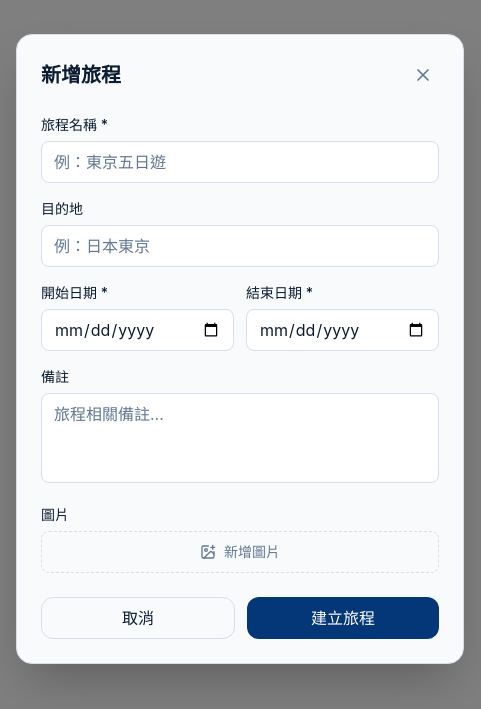
it: AddTripModal › shows an error and does not create a trip when the title is blank
Type "2026-01-01" into the date field below "開始日期 *". click: point(138, 330)
box: [41,309,234,351]
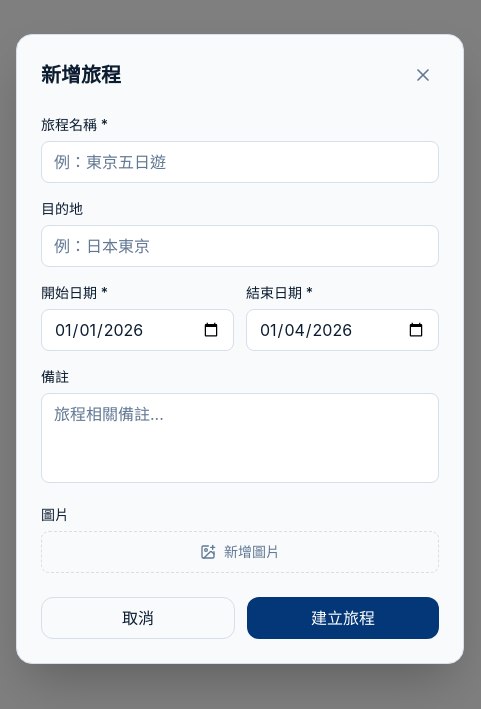
Submit the form
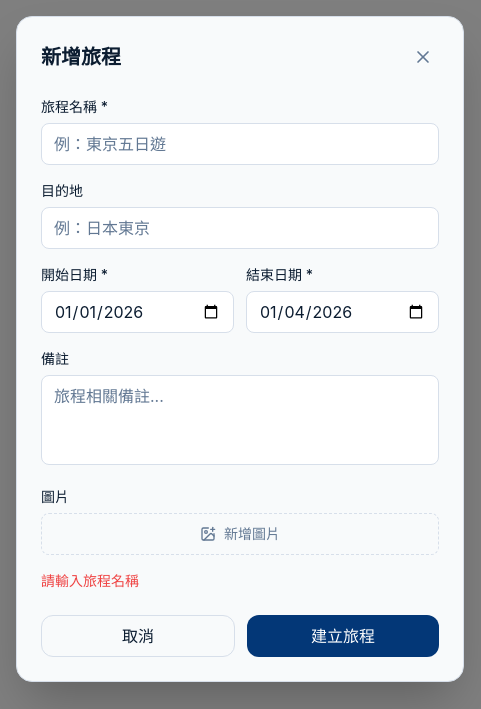
expect the text "請輸入旅程名稱" is shown: met, box [41,572,139,589]
